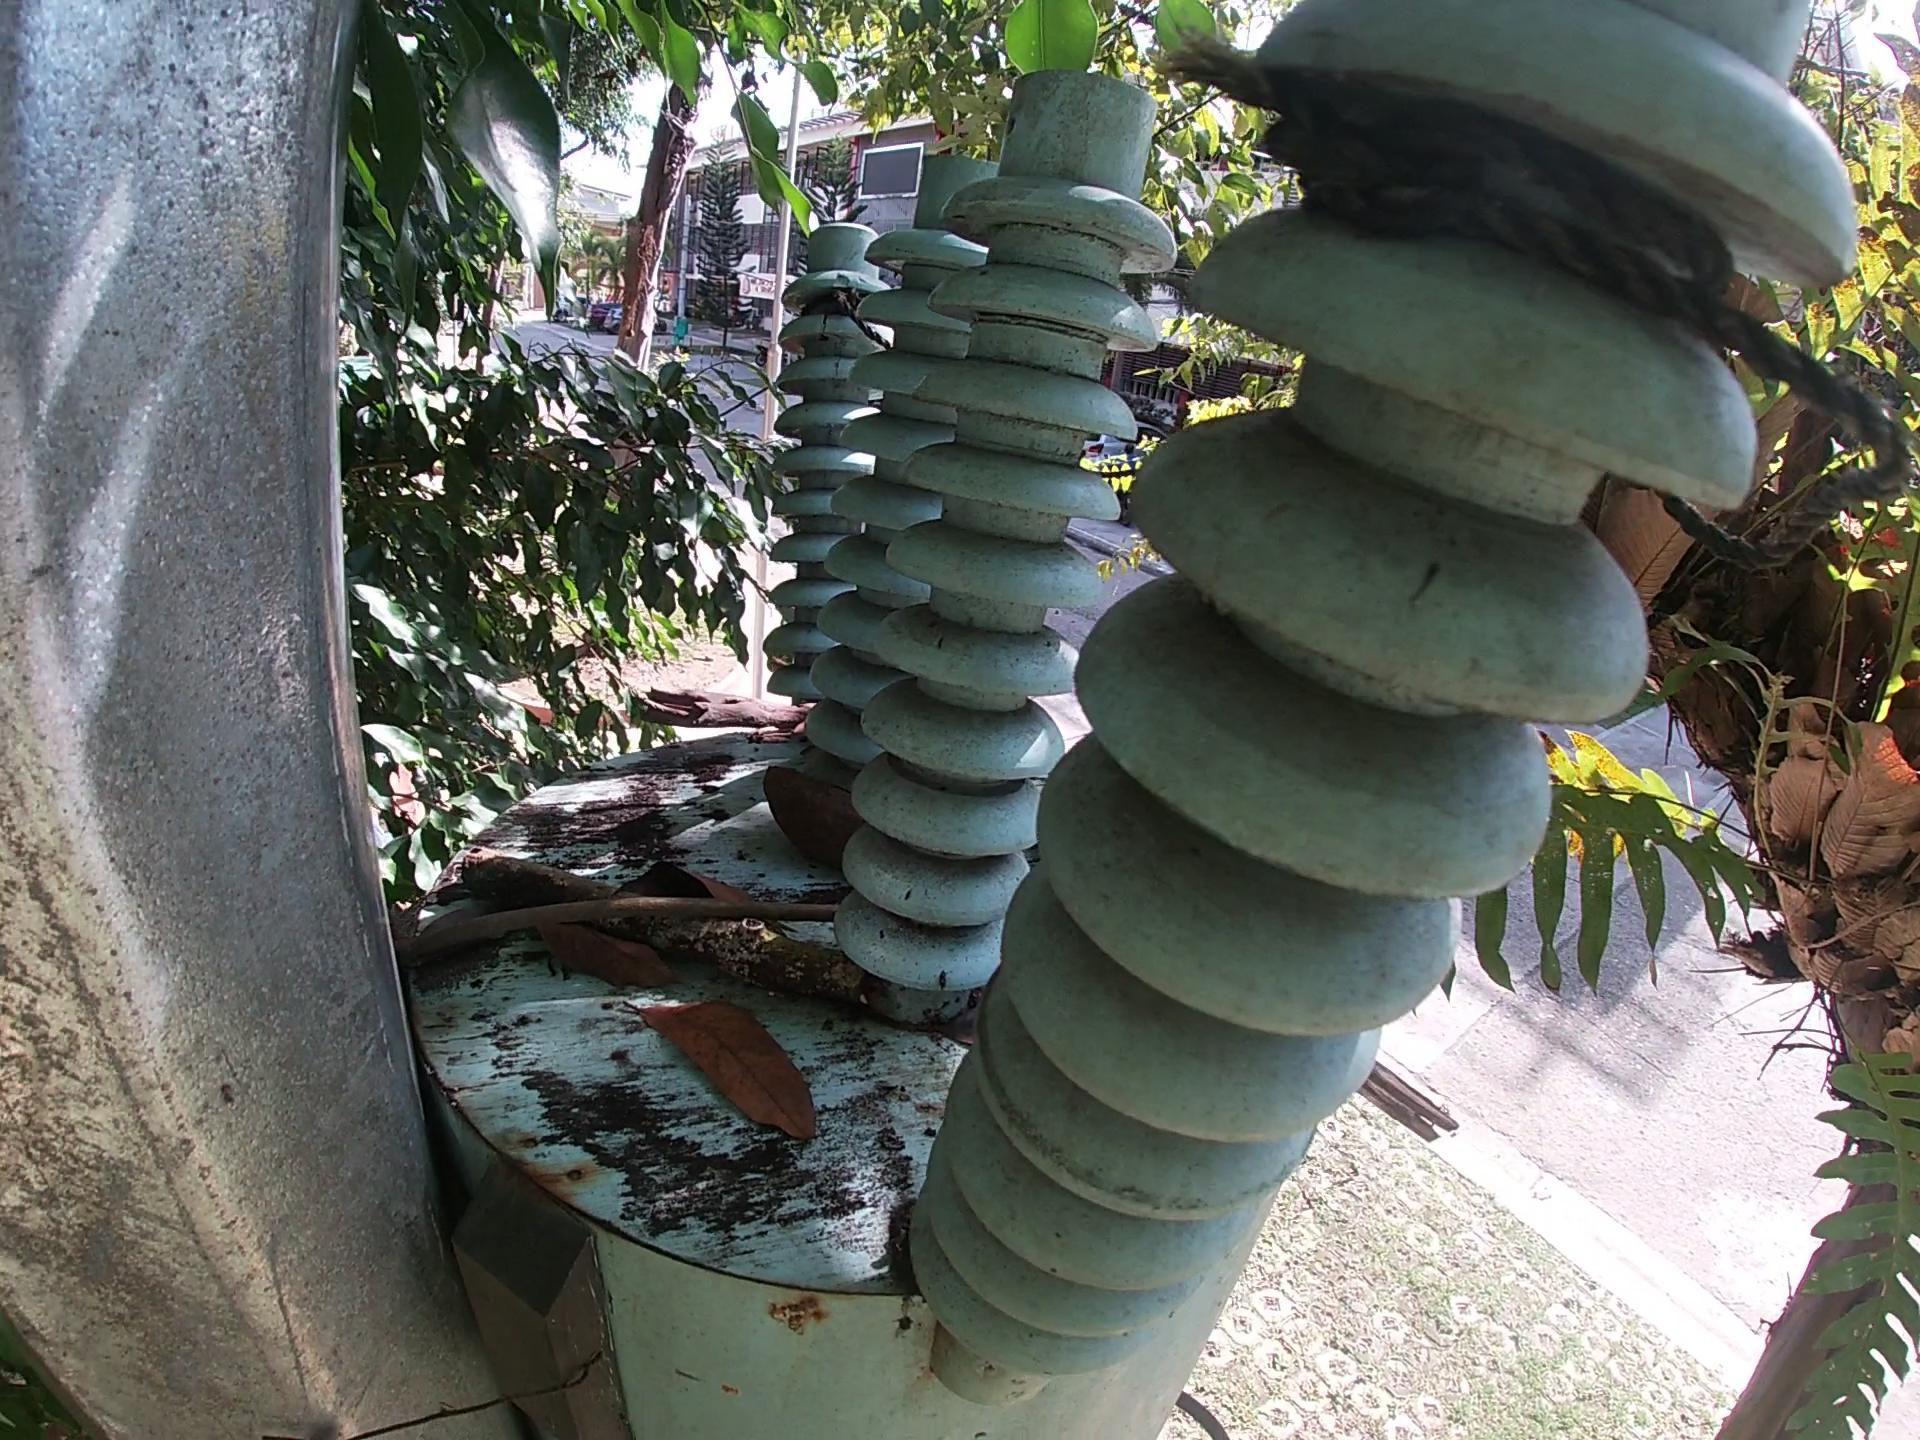leaf: (629, 995, 827, 1145), (534, 920, 683, 994), (606, 861, 754, 902), (906, 1003, 986, 1054)
mahogany fruit: (757, 759, 866, 868)
tree branch: (460, 843, 869, 1001), (381, 900, 844, 976), (632, 682, 809, 746), (1358, 1059, 1465, 1147)
